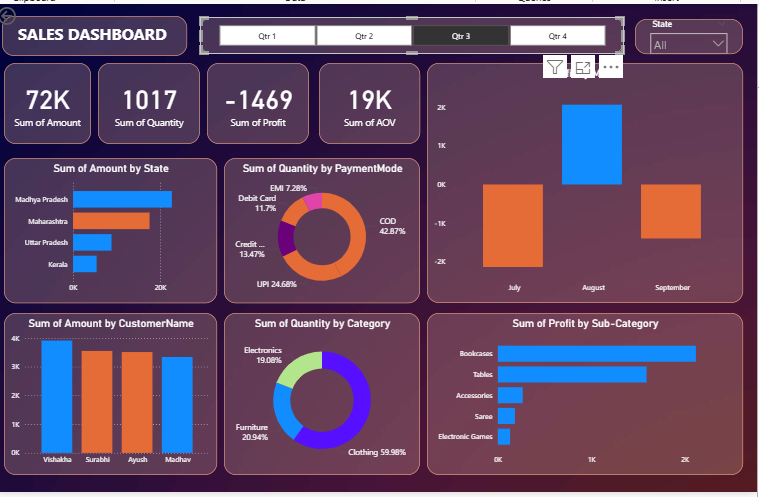

This screenshot's page, from the dashboard's own definition file:
{"tool":"powerbi","page":{"name":"Page 1","canvas":[1280,820],"ordinal":0},"visuals":[{"type":"textbox","box":[11.8,20.2,310.8,67.2],"z":0},{"type":"columnChart","title":"Profit by Month","fields":{"Category":["Orders.Order Date.Variation.Date Hierarchy.Month"],"Y":["Sum(Details.Profit)"]},"box":[725.7,99.1,530.8,403.1],"z":1000},{"type":"barChart","fields":{"Category":["Details.Sub-Category"],"Y":["Sum(Details.Profit)"]},"box":[725.7,519.1,530.8,272.1],"z":2000},{"type":"donutChart","fields":{"Category":["Details.Category"],"Y":["Sum(Details.Quantity)"]},"box":[384.7,519.1,329.2,272.1],"z":3000},{"type":"donutChart","fields":{"Category":["Details.PaymentMode"],"Y":["Sum(Details.Quantity)"]},"box":[384.7,258.7,329.2,243.6],"z":4000},{"type":"card","fields":{"Values":["Sum(Details.Amount)"]},"box":[15.1,99.1,146.1,136.1],"z":5000},{"type":"actionButton","box":[0,0,100,40],"z":6000},{"type":"card","fields":{"Values":["Sum(Details.Quantity)"]},"box":[173,99.1,171.3,136.1],"z":7000},{"type":"card","fields":{"Values":["Sum(Details.Profit)"]},"box":[356.1,99.1,171.3,136.1],"z":8000},{"type":"card","fields":{"Values":["Sum(Details.AOV)"]},"box":[544.3,99.1,169.7,136.1],"z":9000},{"type":"barChart","fields":{"Category":["Orders.State"],"Y":["Sum(Details.Amount)"]},"box":[15.1,258.7,357.8,243.6],"z":10000},{"type":"slicer","fields":{"Values":["Orders.Order Date.Variation.Date Hierarchy.Quarter"]},"box":[344.4,21.8,712.2,62.2],"z":10001},{"type":"slicer","fields":{"Values":["Orders.State"]},"box":[1075.1,25.2,181.4,58.8],"z":10002},{"type":"columnChart","fields":{"Category":["Orders.CustomerName"],"Y":["Sum(Details.Amount)"]},"box":[15,519,358,272],"z":10003}]}

Visuals, with their boxes in screenshot pixels (x1, y1, x2, y2), scaled from the page's 1280x820 canvas onto the 759x497 screenshot:
textbox: left=7, top=12, right=191, bottom=53
"Profit by Month" columnChart: left=430, top=60, right=745, bottom=304
barChart - Details.Sub-Category x Sum(Details.Profit): left=430, top=315, right=745, bottom=480
donutChart - Details.Category x Sum(Details.Quantity): left=228, top=315, right=423, bottom=480
donutChart - Details.PaymentMode x Sum(Details.Quantity): left=228, top=157, right=423, bottom=304
card - Sum(Details.Amount): left=9, top=60, right=96, bottom=143
actionButton: left=0, top=0, right=59, bottom=24
card - Sum(Details.Quantity): left=103, top=60, right=204, bottom=143
card - Sum(Details.Profit): left=211, top=60, right=313, bottom=143
card - Sum(Details.AOV): left=323, top=60, right=423, bottom=143
barChart - Orders.State x Sum(Details.Amount): left=9, top=157, right=221, bottom=304
slicer - Orders.Order Date.Variation.Date Hierarchy.Quarter: left=204, top=13, right=627, bottom=51
slicer - Orders.State: left=638, top=15, right=745, bottom=51
columnChart - Orders.CustomerName x Sum(Details.Amount): left=9, top=315, right=221, bottom=479
